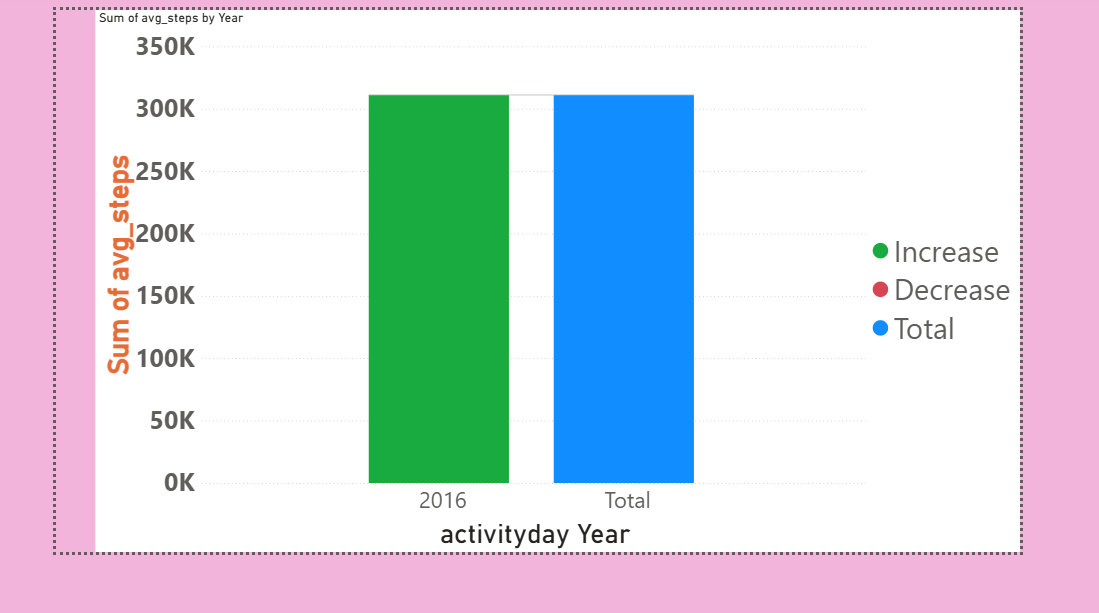

Layout of this report page (visuals, bound fields, positions):
{"tool":"powerbi","page":{"name":"Page 3","canvas":[1280,720],"ordinal":2},"visuals":[{"type":"waterfallChart","fields":{"Category":["strava weekday_steps.activityday.Variation.Date Hierarchy.Year","strava weekday_steps.activityday.Variation.Date Hierarchy.Quarter","strava weekday_steps.activityday.Variation.Date Hierarchy.Month","strava weekday_steps.activityday.Variation.Date Hierarchy.Day"],"Y":["Sum(strava weekday_steps.avg_steps)"]},"box":[51.6,0,1229.1,720],"z":0}]}

Visuals, with their boxes in screenshot pixels (x1, y1, x2, y2), scaled from the page's 1280x720 canvas onto the 1099x613 screenshot:
waterfallChart - strava weekday_steps.activityday.Variation.Date Hierarchy.Year x strava weekday_steps.activityday.Variation.Date Hierarchy.Quarter: select_region(44, 0, 1098, 612)
